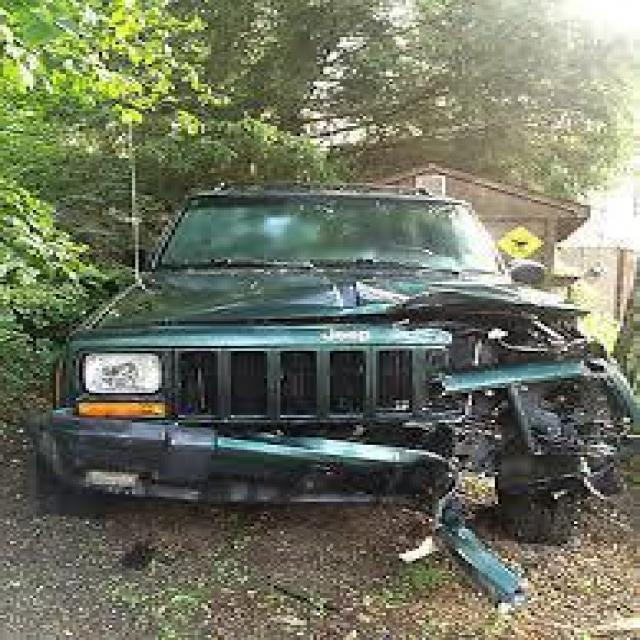damaged: (228, 259, 636, 526)
